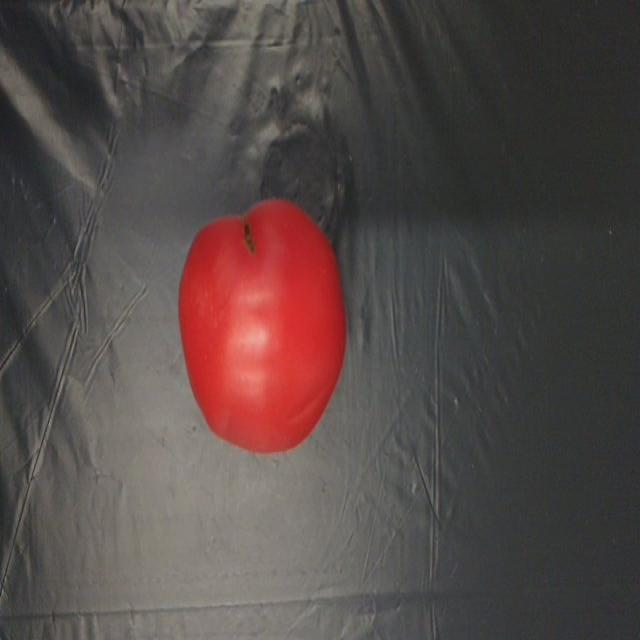kirmizi: (144, 180, 398, 478)
